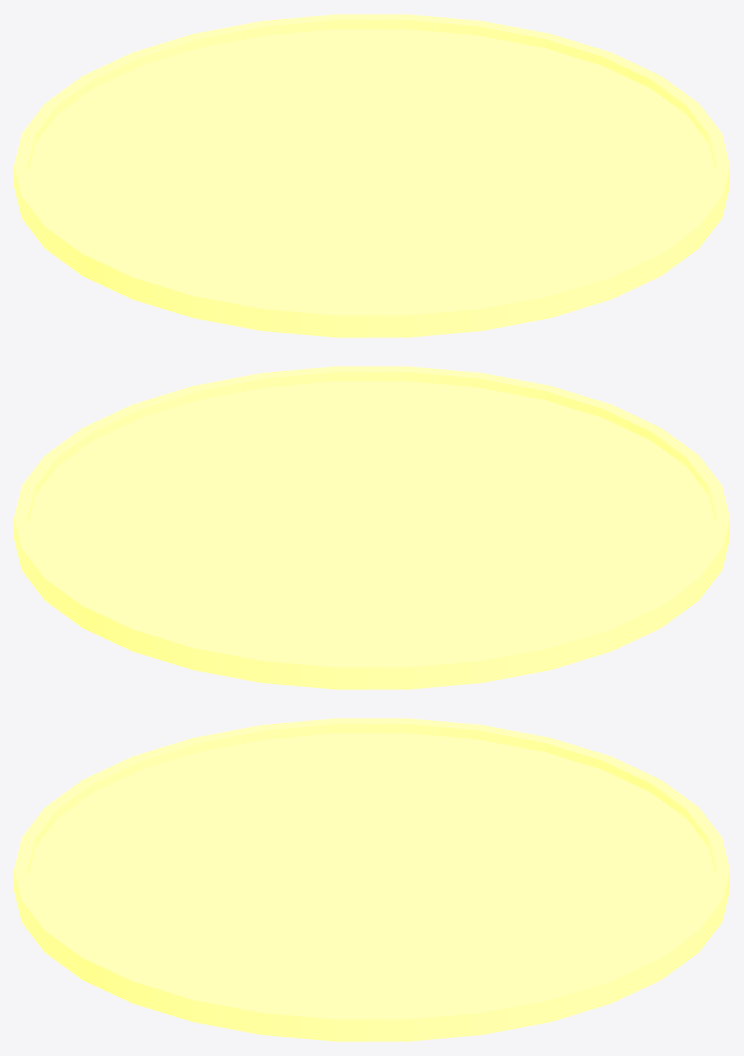
Rendered from SFI0510016.fbx.
The picture shows the model from 3 angles, top to bottom: view 1: azimuth 30°, elevation 25°; view 2: azimuth 150°, elevation 25°; view 3: azimuth 270°, elevation 25°; orthographic projection.
Parts seen in each view (by area): view 1: smSFI0510016; view 2: smSFI0510016; view 3: smSFI0510016.
Boxes of the visible parts, x1,y1,x2,y2 form: smSFI0510016: [14, 14, 729, 337]; smSFI0510016: [14, 366, 729, 689]; smSFI0510016: [14, 718, 729, 1041].
Bounding box in the file's own units: 199 × 6.83 × 200.
